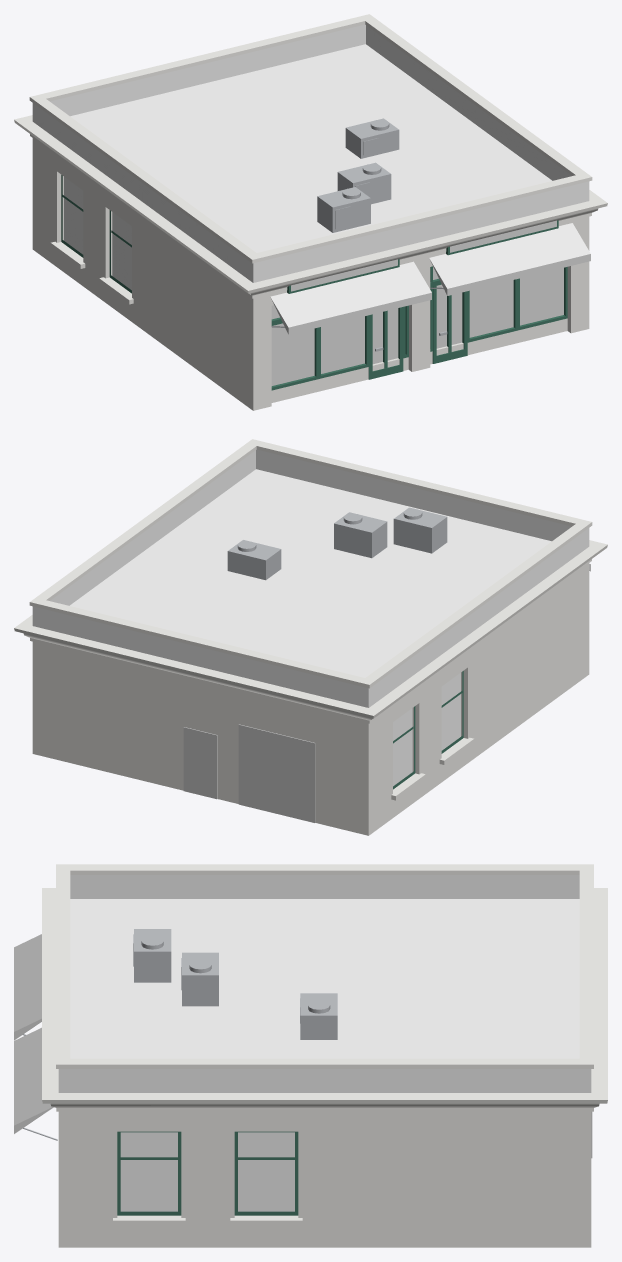
Rendered from midtown_w44f0.glb.
The picture shows the model from 3 angles, top to bottom: view 1: azimuth 30°, elevation 25°; view 2: azimuth 150°, elevation 25°; view 3: azimuth 270°, elevation 25°; orthographic projection. The views are drawn at different scales.
Visible parts, largest first — view 1: midtown_w44f0_Trim, midtown_w44f0_Roof, midtown_w44f0_Walls, midtown_w44f0_Awning, midtown_w44f0_WindowsLit, midtown_w44f0_Frames, midtown_w44f0_Details, midtown_w44f0_Glass, midtown_w44f0_Sign; view 2: midtown_w44f0_Trim, midtown_w44f0_Roof, midtown_w44f0_Walls, midtown_w44f0_Doors, midtown_w44f0_Details, midtown_w44f0_Glass, midtown_w44f0_Frames; view 3: midtown_w44f0_Trim, midtown_w44f0_Roof, midtown_w44f0_Walls, midtown_w44f0_Glass, midtown_w44f0_Details, midtown_w44f0_Awning, midtown_w44f0_Frames.
Boxes of the visible parts, x1,y1,x2,y2 form: midtown_w44f0_Trim: [14, 14, 607, 410]; midtown_w44f0_Roof: [70, 44, 552, 252]; midtown_w44f0_Walls: [32, 24, 589, 282]; midtown_w44f0_Awning: [270, 223, 590, 334]; midtown_w44f0_WindowsLit: [271, 266, 563, 385]; midtown_w44f0_Frames: [61, 175, 567, 390]; midtown_w44f0_Details: [271, 118, 447, 351]; midtown_w44f0_Glass: [64, 177, 131, 290]; midtown_w44f0_Sign: [291, 220, 556, 291]; midtown_w44f0_Trim: [14, 439, 607, 835]; midtown_w44f0_Roof: [69, 469, 551, 677]; midtown_w44f0_Walls: [32, 449, 589, 707]; midtown_w44f0_Doors: [183, 724, 315, 822]; midtown_w44f0_Details: [227, 507, 447, 580]; midtown_w44f0_Glass: [393, 673, 460, 786]; midtown_w44f0_Frames: [393, 671, 463, 789]; midtown_w44f0_Trim: [42, 864, 607, 1247]; midtown_w44f0_Roof: [70, 899, 579, 1058]; midtown_w44f0_Walls: [58, 875, 591, 1092]; midtown_w44f0_Glass: [120, 1132, 294, 1211]; midtown_w44f0_Details: [23, 929, 337, 1140]; midtown_w44f0_Awning: [14, 934, 53, 1133]; midtown_w44f0_Frames: [117, 1131, 298, 1215].
Bounding box in the file's own units: 47.12 × 19.62 × 55.76.
